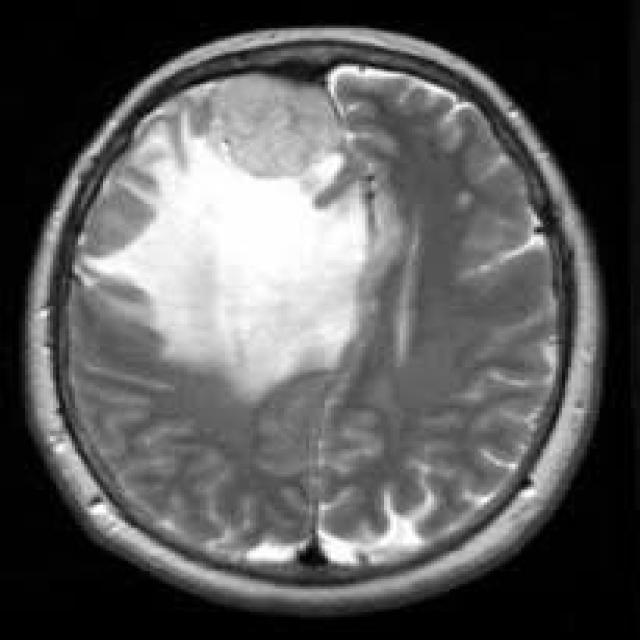brain_tumor: (83, 153, 368, 399)
